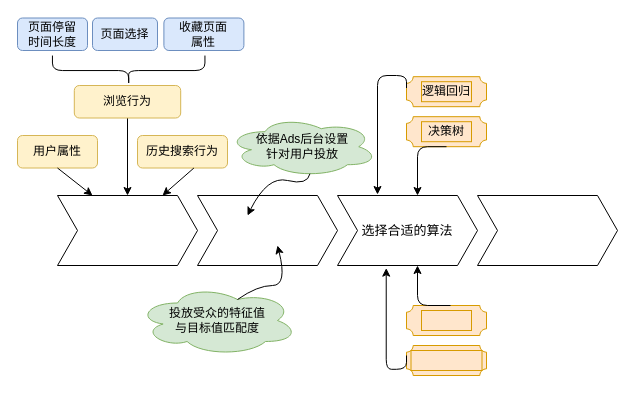
The diagram is 635 pixels wide and 395 high, and some of its shapes have lost their labels. Here are the shapes that lost their labels. From the top down, the box of each, then its label:
(56, 194, 198, 266): 给用户打标签 建立特征值
(196, 194, 338, 266): 投放广告并 收集结果
(476, 194, 618, 266): 优化广告投放， 提高投放效率
(420, 310, 472, 330): 神经网络
(410, 350, 482, 370): 支持向量机
